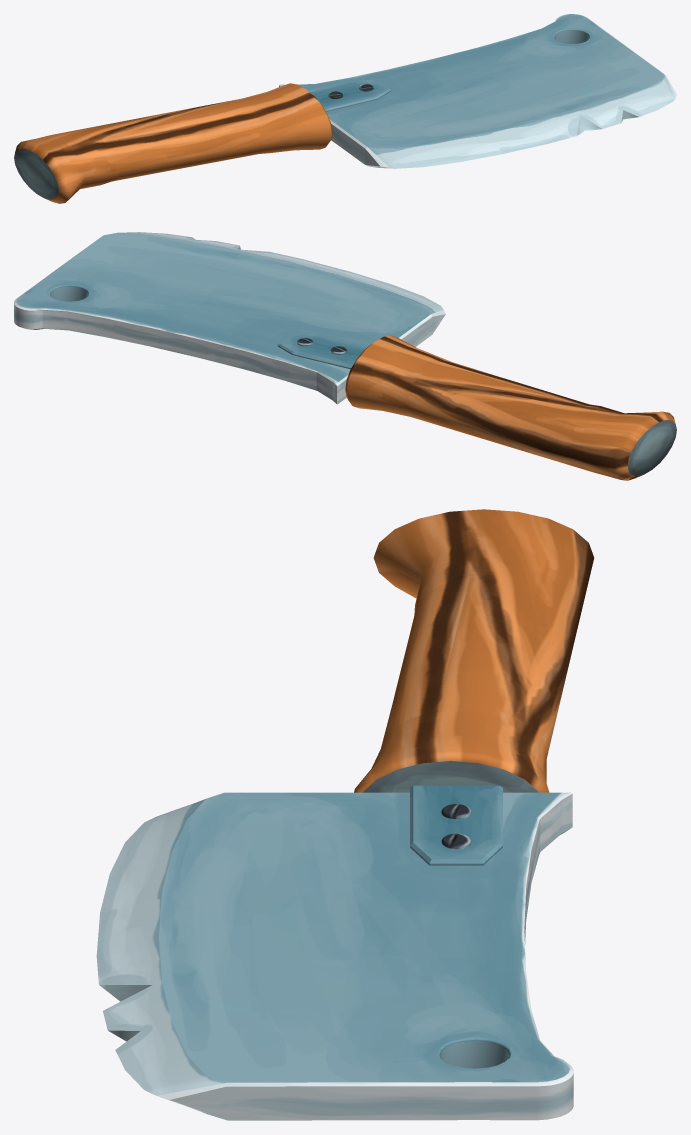
File: butcherknifeUV.fbx
3 views of the same model, one above another, from view 1: azimuth 30°, elevation 25°; view 2: azimuth 150°, elevation 25°; view 3: azimuth 270°, elevation 25° (orthographic). The views are drawn at different scales.
Visible parts, largest first — view 1: butcher_knife; view 2: butcher_knife; view 3: butcher_knife.
Boxes of the visible parts, box(x1,y1,x2,y2) form: butcher_knife: box(14, 14, 676, 203); butcher_knife: box(14, 232, 676, 480); butcher_knife: box(96, 509, 594, 1120).
Bounding box in the file's own units: 4.32 × 0.4029 × 1.65.
